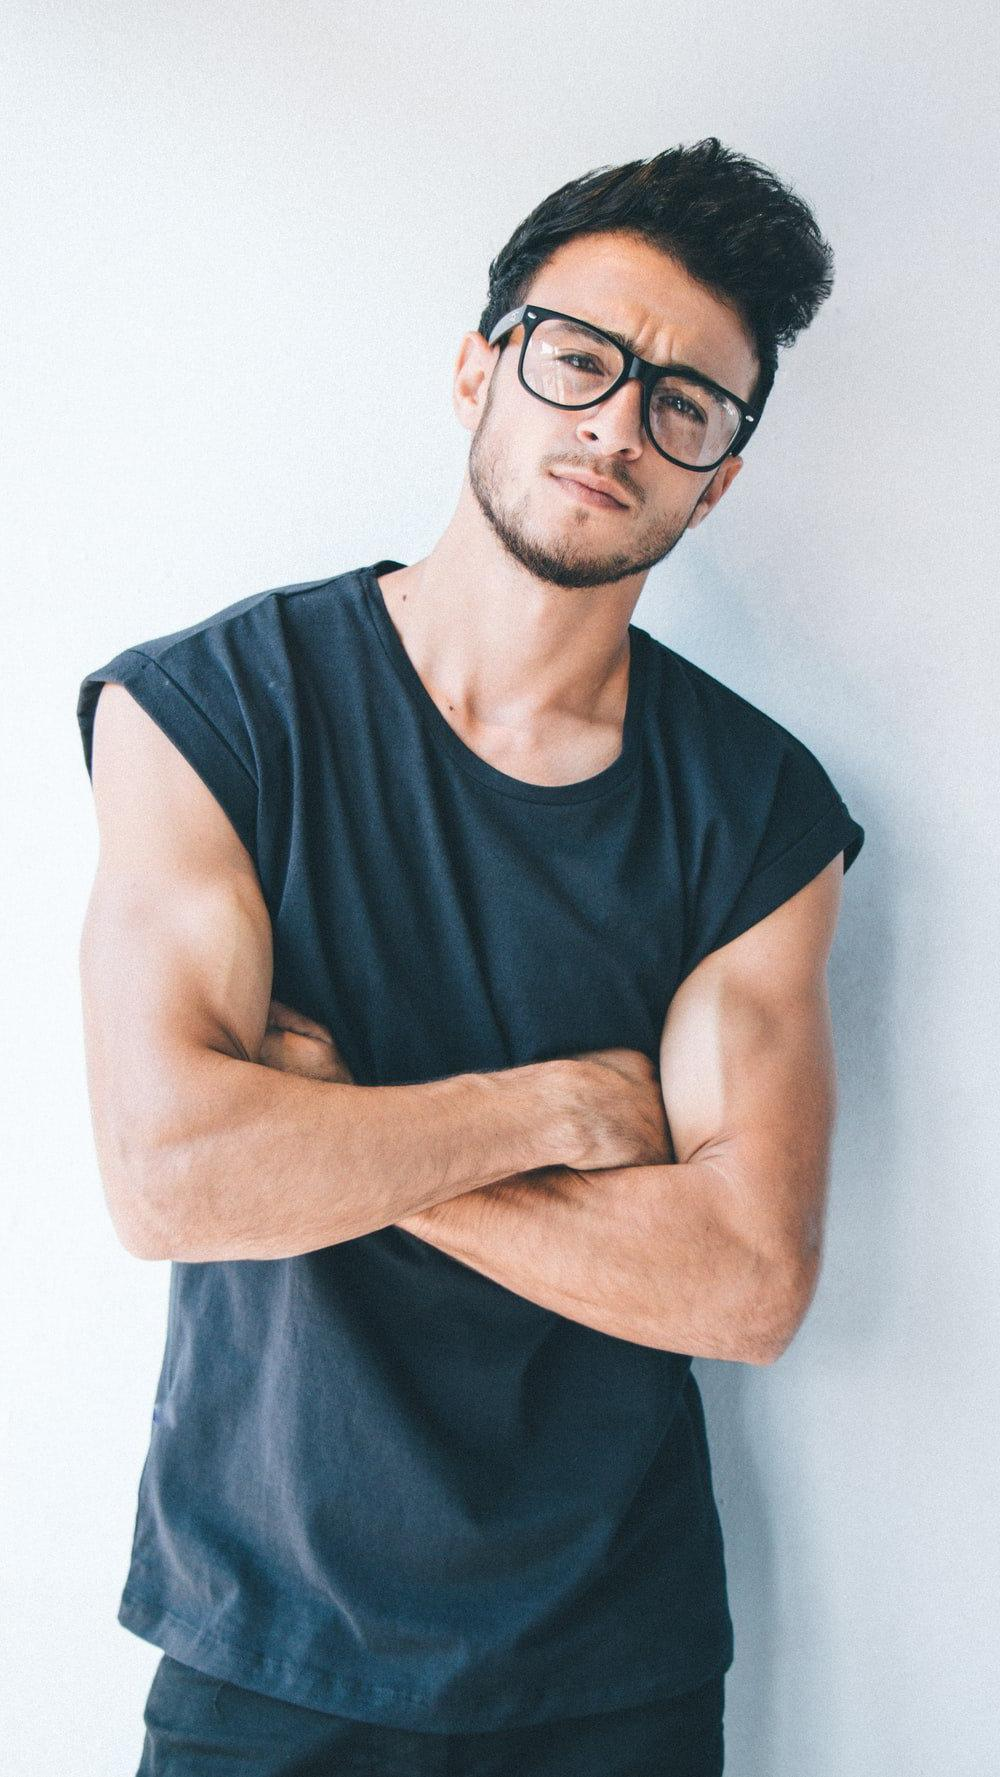Sober: (518, 275, 701, 581)
